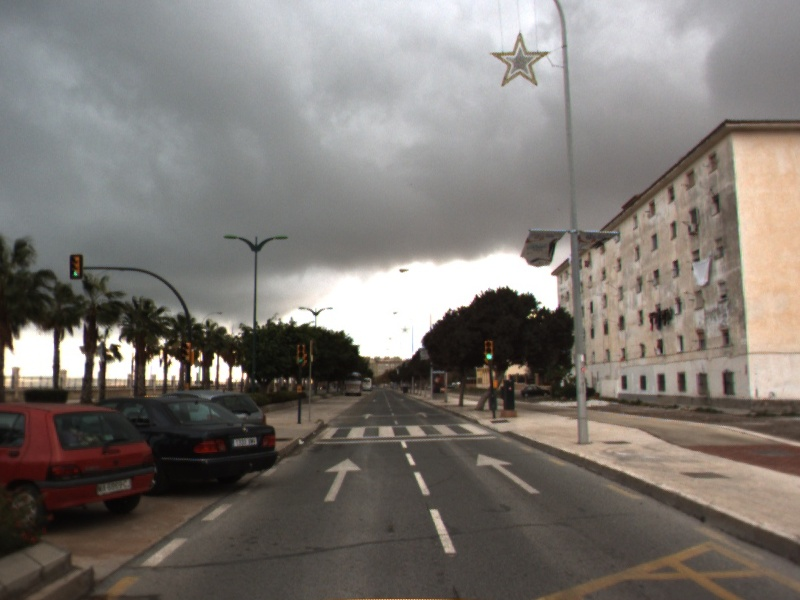STRAIGHT: (475, 452, 542, 495), (323, 456, 363, 503), (358, 411, 377, 421), (413, 410, 431, 419)
